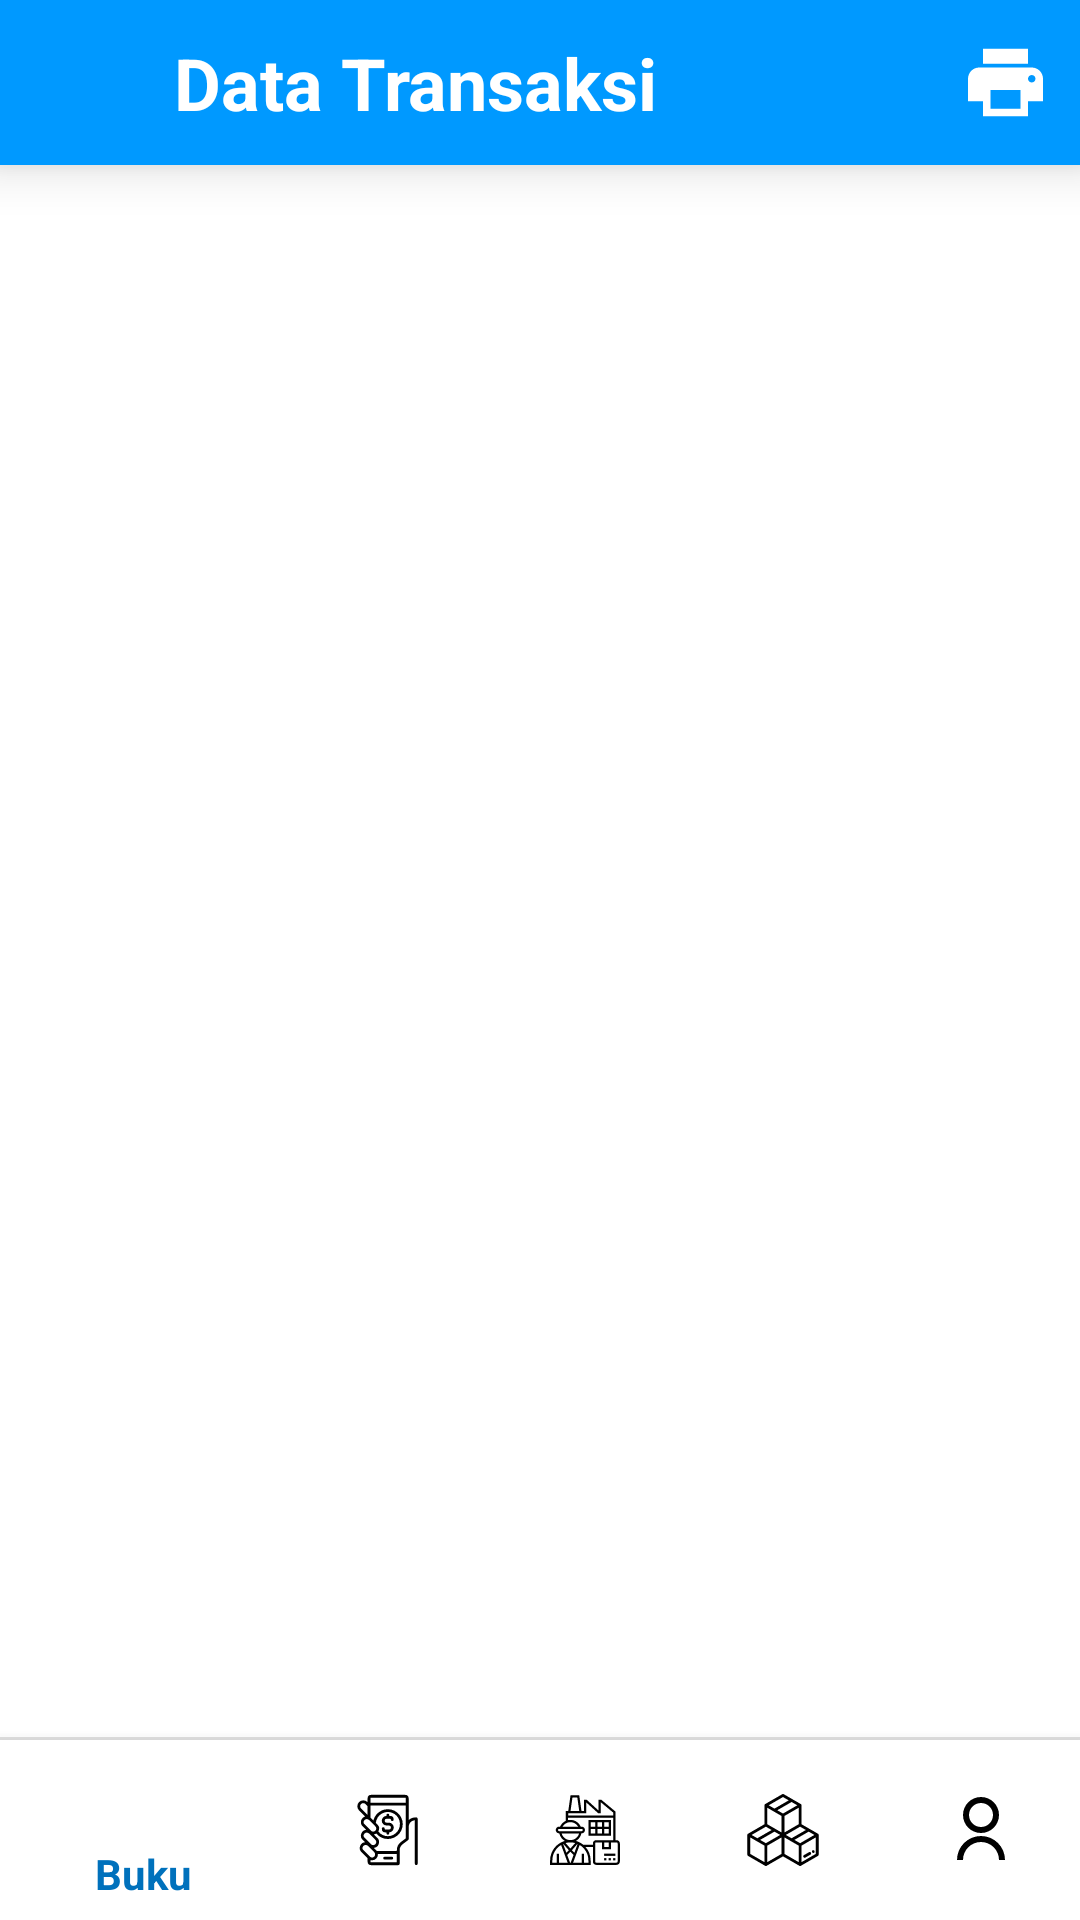

Icons on this 1080px×1920px Android screen, each with the point to tap as (x,y):
print: (1005,82)
